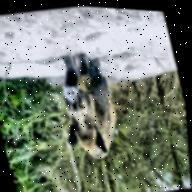boar: (49, 47, 135, 165)
